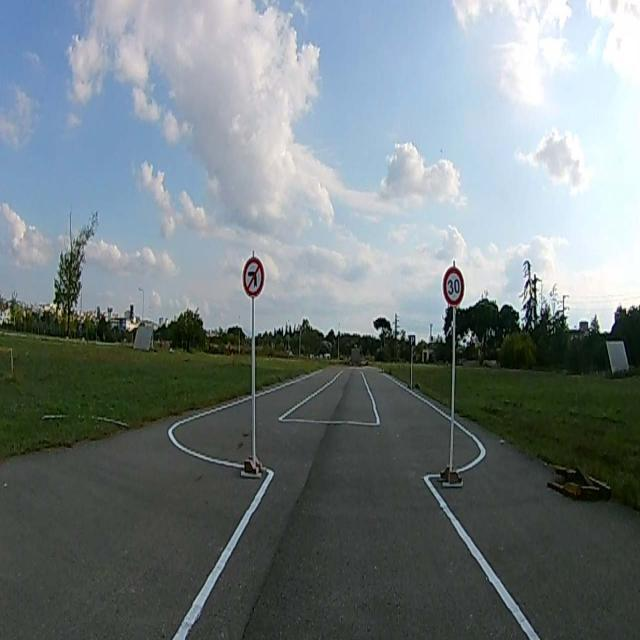30: (443, 268, 466, 305)
soladonulmez: (242, 258, 264, 296)
